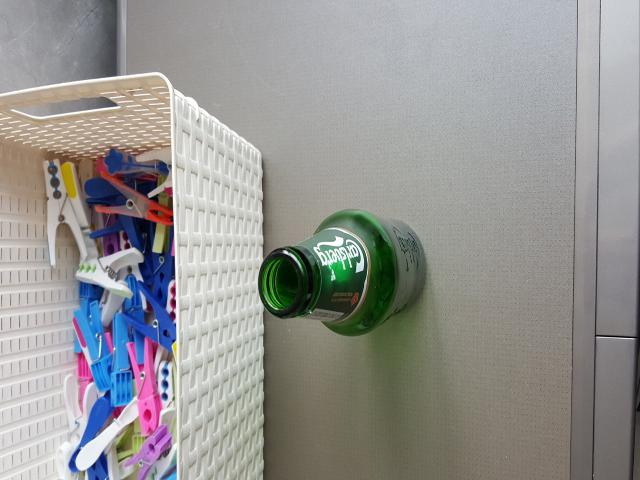beer: (259, 208, 427, 336)
